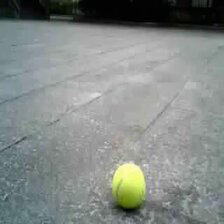tennis: (112, 164, 146, 207)
